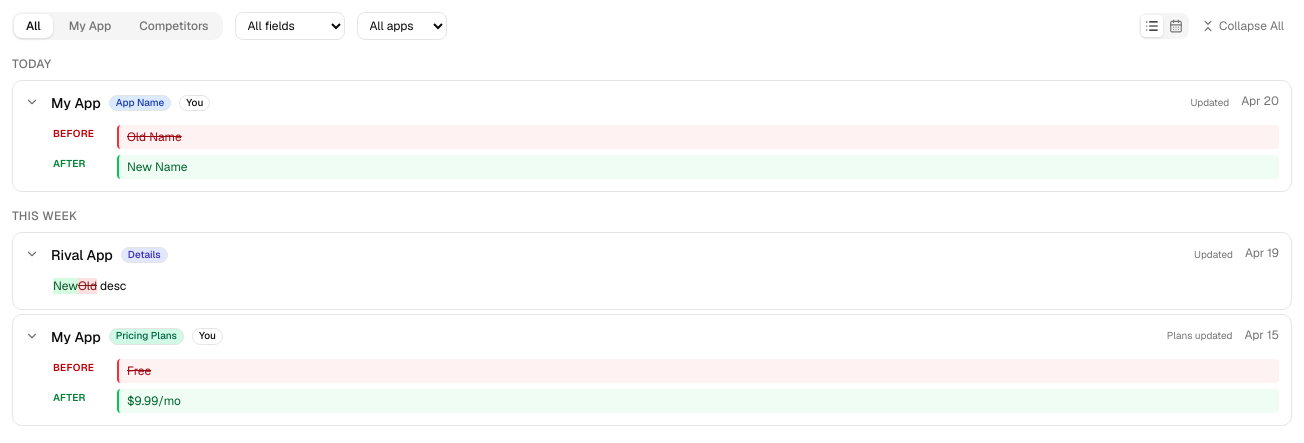
Test case: UnifiedChangeLog › switches to calendar view when calendar button clicked
Click the button named "Calendar view".
click(1176, 26)  # box [1165, 15, 1187, 37]
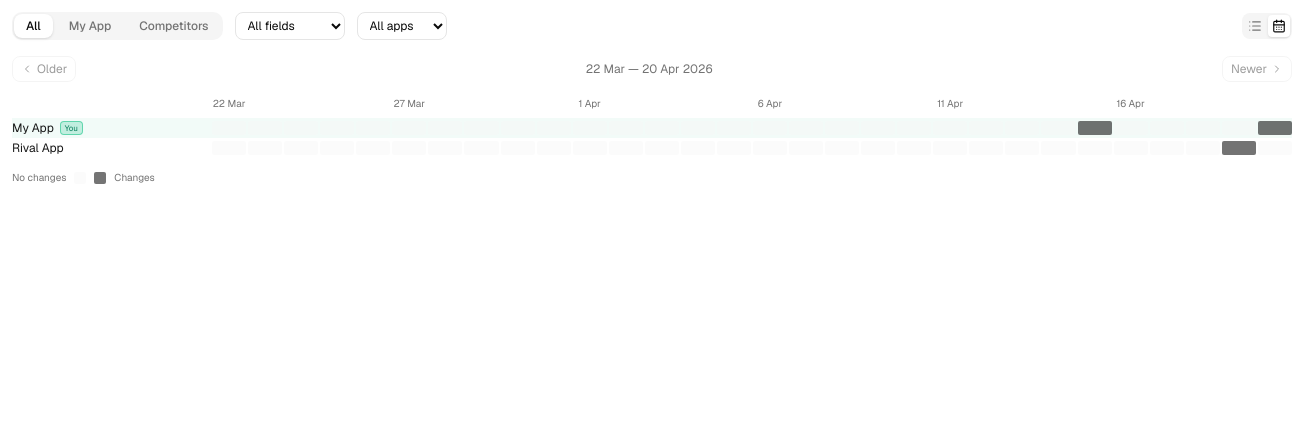
Now the button with aria-label "Previous period" is shown, box [12, 56, 76, 82]
Now the text "No changes" is shown, box [12, 170, 66, 185]
Now the button "Collapse All" is gone
